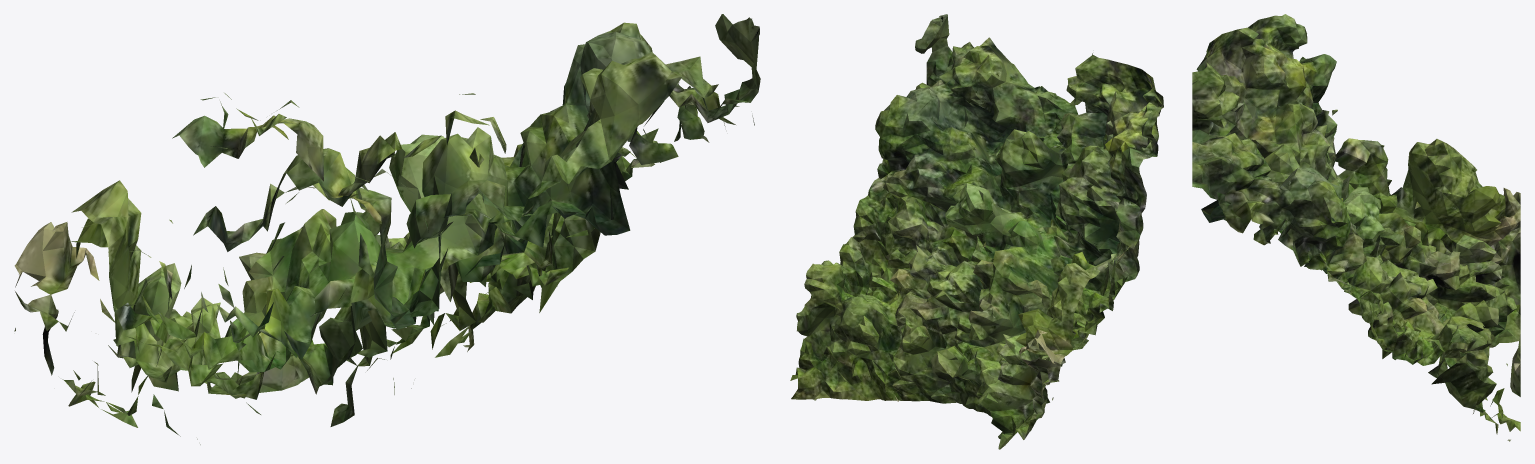
The picture shows the model from 3 angles, left to right: view 1: azimuth 30°, elevation 25°; view 2: azimuth 150°, elevation 25°; view 3: azimuth 270°, elevation 25°; orthographic projection. The views are drawn at different scales.
Bounding box in the file's own units: 52.22 × 52.22 × 52.22.
Materials: 7 (7 with a texture image).
